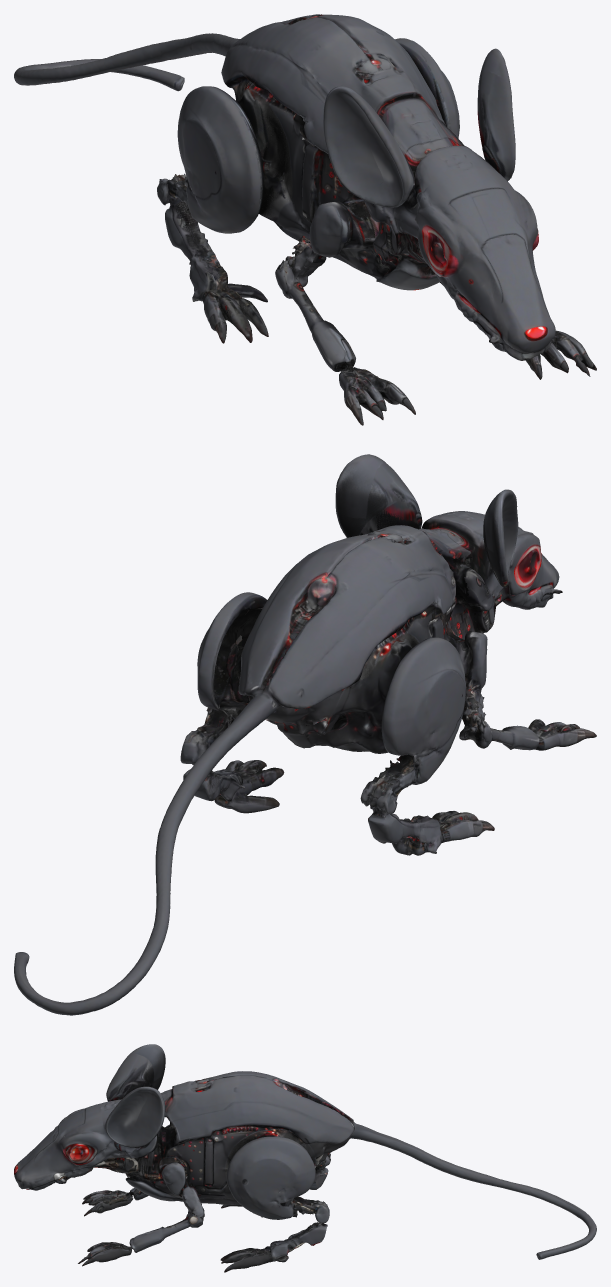
The model's file is a_cyber_mouse_roboti_0715190609_texture.fbx.
The picture shows the model from 3 angles, top to bottom: view 1: azimuth 30°, elevation 25°; view 2: azimuth 150°, elevation 25°; view 3: azimuth 270°, elevation 25°; orthographic projection. The views are drawn at different scales.
Parts seen in each view (by area): view 1: Mesh_0; view 2: Mesh_0; view 3: Mesh_0.
Boxes of the visible parts, x1=… form: Mesh_0: x1=14, y1=14, x2=596, y2=425; Mesh_0: x1=14, y1=454, x2=596, y2=1015; Mesh_0: x1=14, y1=1044, x2=596, y2=1272.
Bounding box in the file's own units: 61.44 × 64.34 × 200.
1 material, 1 textured.
